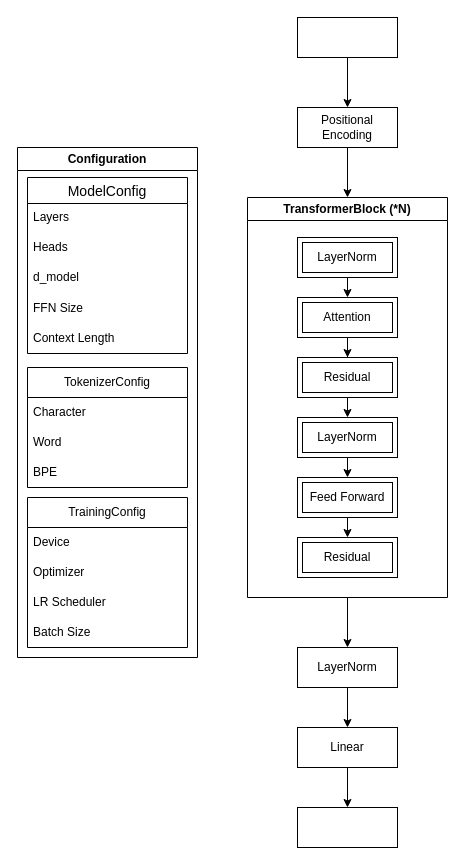
Some shapes in this 465 by 865 pixel diagram are drawn without their labels. Each missing label, with the centre of its shape:
"Input Embeddings" goes at point (347, 37).
"Softmax" goes at point (347, 827).
